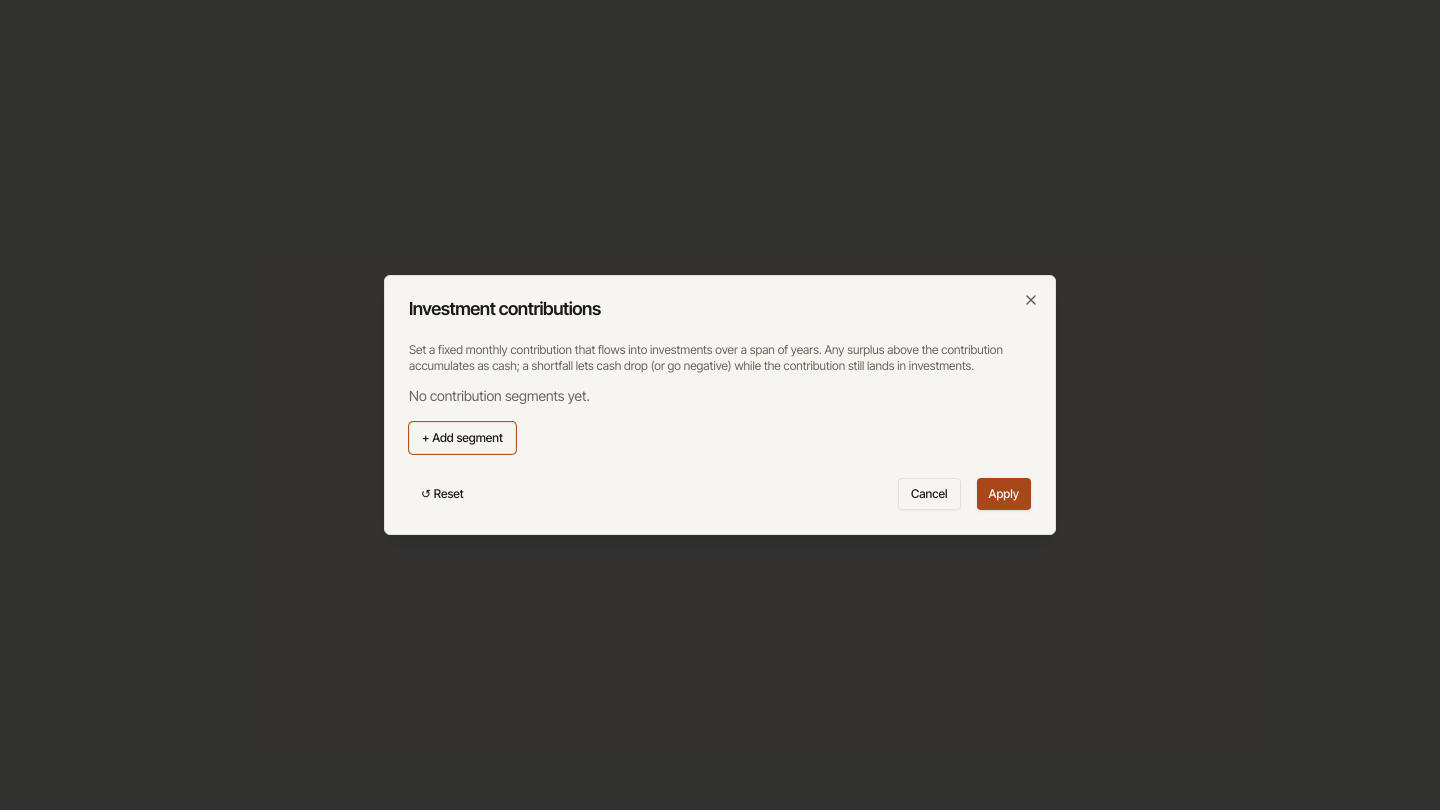
ContributionsPopover › clicking + Add segment appends a row with default year and amount inputs
The width and height of the screenshot is (1440, 810).
Click the button "+ Add segment": [462, 438] box [409,422,516,454]
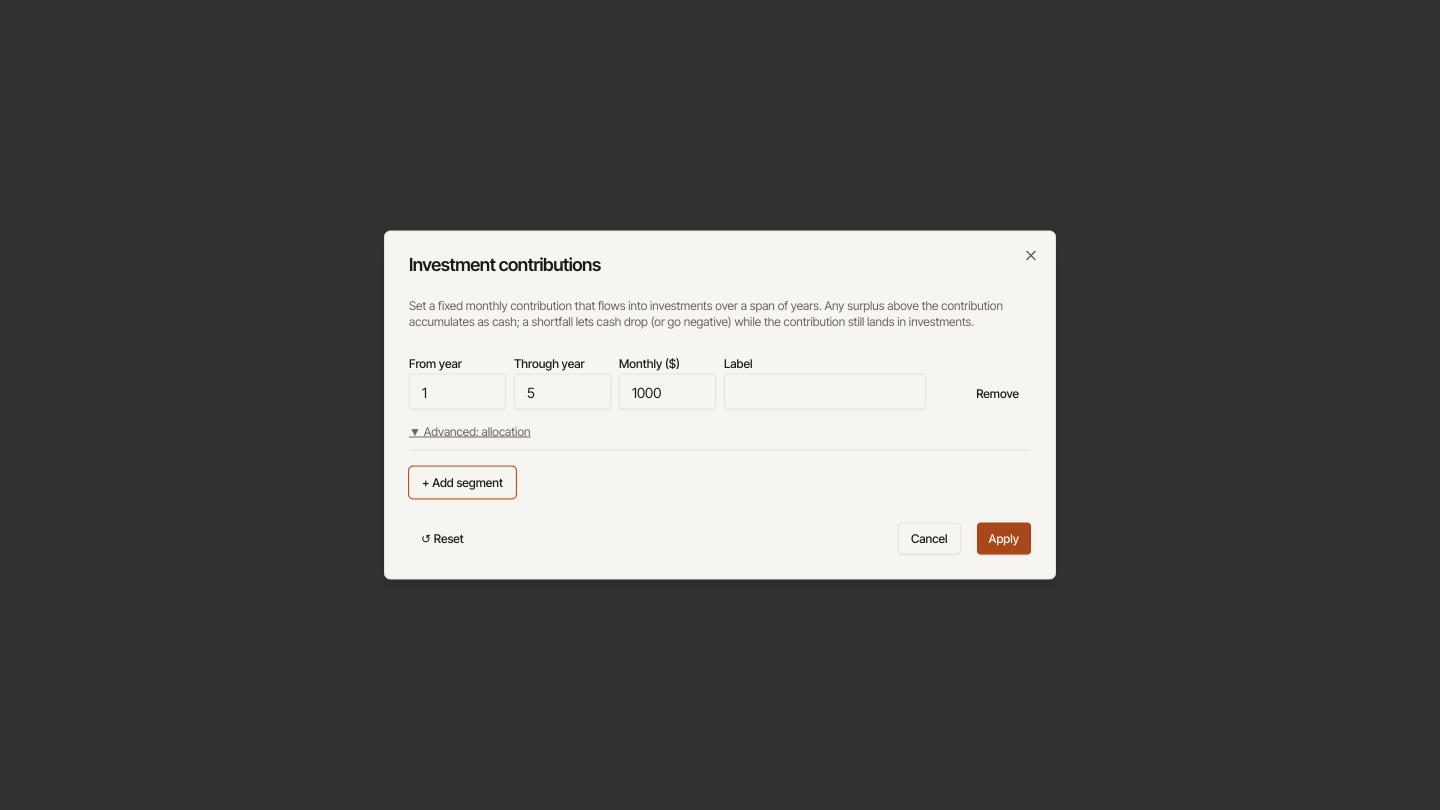
Now the number field labelled "From year" is shown, box [409,374,506,410]
Now the number field labelled "Through year" is shown, box [514,374,611,410]
Now the number field named "monthly amount" is shown, box [619,374,716,410]
